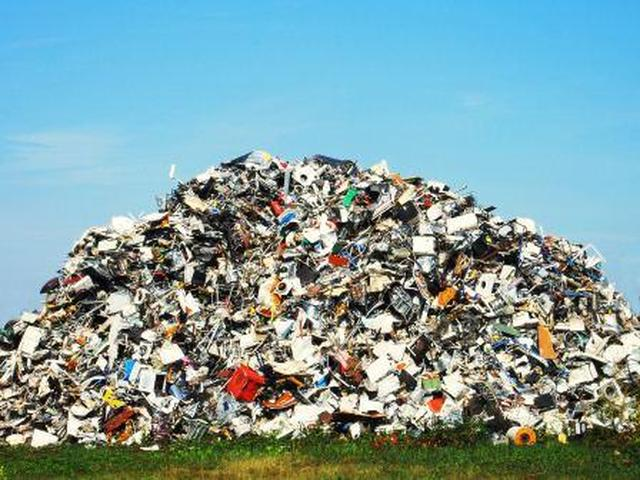garbage: (107, 248, 575, 413), (208, 176, 430, 265), (50, 284, 152, 435)
